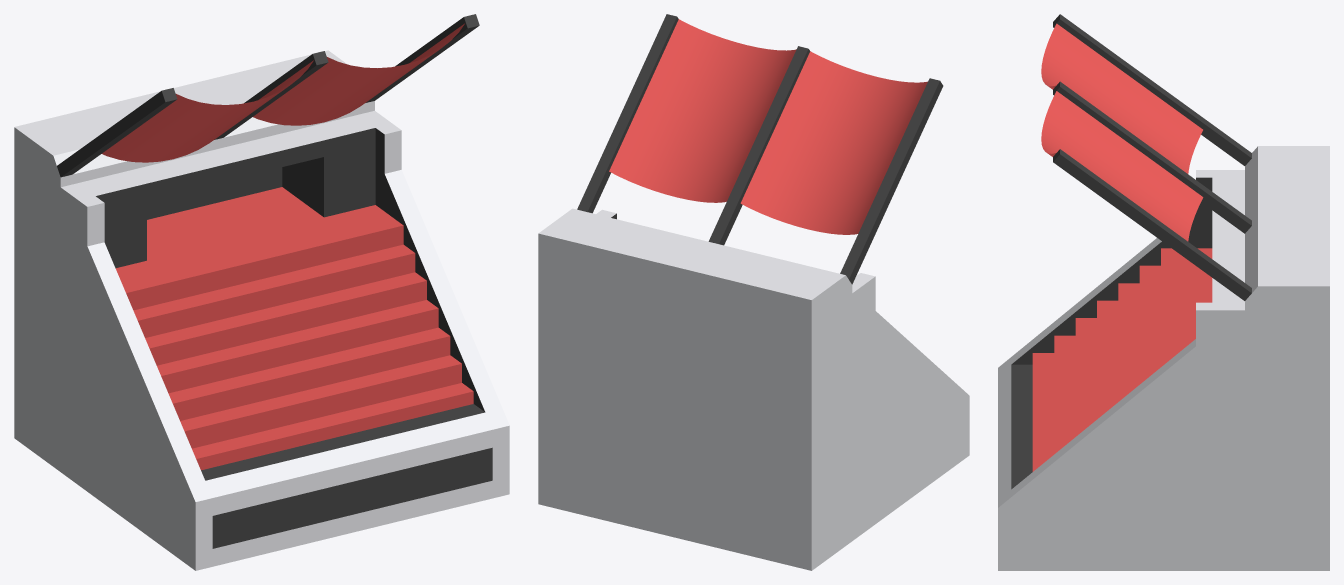
File: grand-stand-awning.glb
3 renders of one model, left to right at view 1: azimuth 30°, elevation 25°; view 2: azimuth 150°, elevation 25°; view 3: azimuth 270°, elevation 25°, orthographic. The views are drawn at different scales.
Parts seen in each view (by area): view 1: grandStandAwning(Clone); view 2: grandStandAwning(Clone); view 3: grandStandAwning(Clone).
Part boxes in pixels (bbox=[...]): grandStandAwning(Clone): bbox=[14, 14, 509, 570]; grandStandAwning(Clone): bbox=[538, 14, 969, 570]; grandStandAwning(Clone): bbox=[998, 14, 1329, 570].
Size of the model in its own units: 1 by 1.39 by 1.
